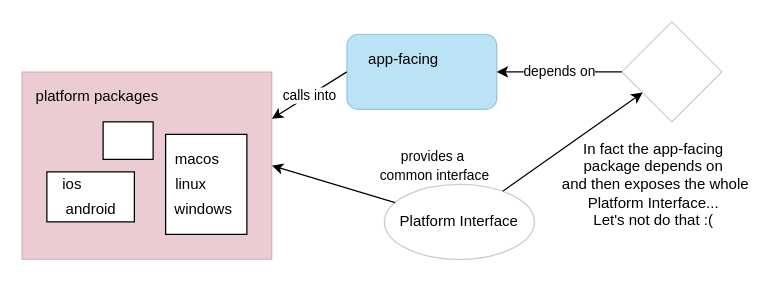
Some shapes in this 781 by 281 pixel diagram are drawn without their labels. Each missing label, with the centre of its shape:
Some Flutter App: [671,71]
web: [127,140]
